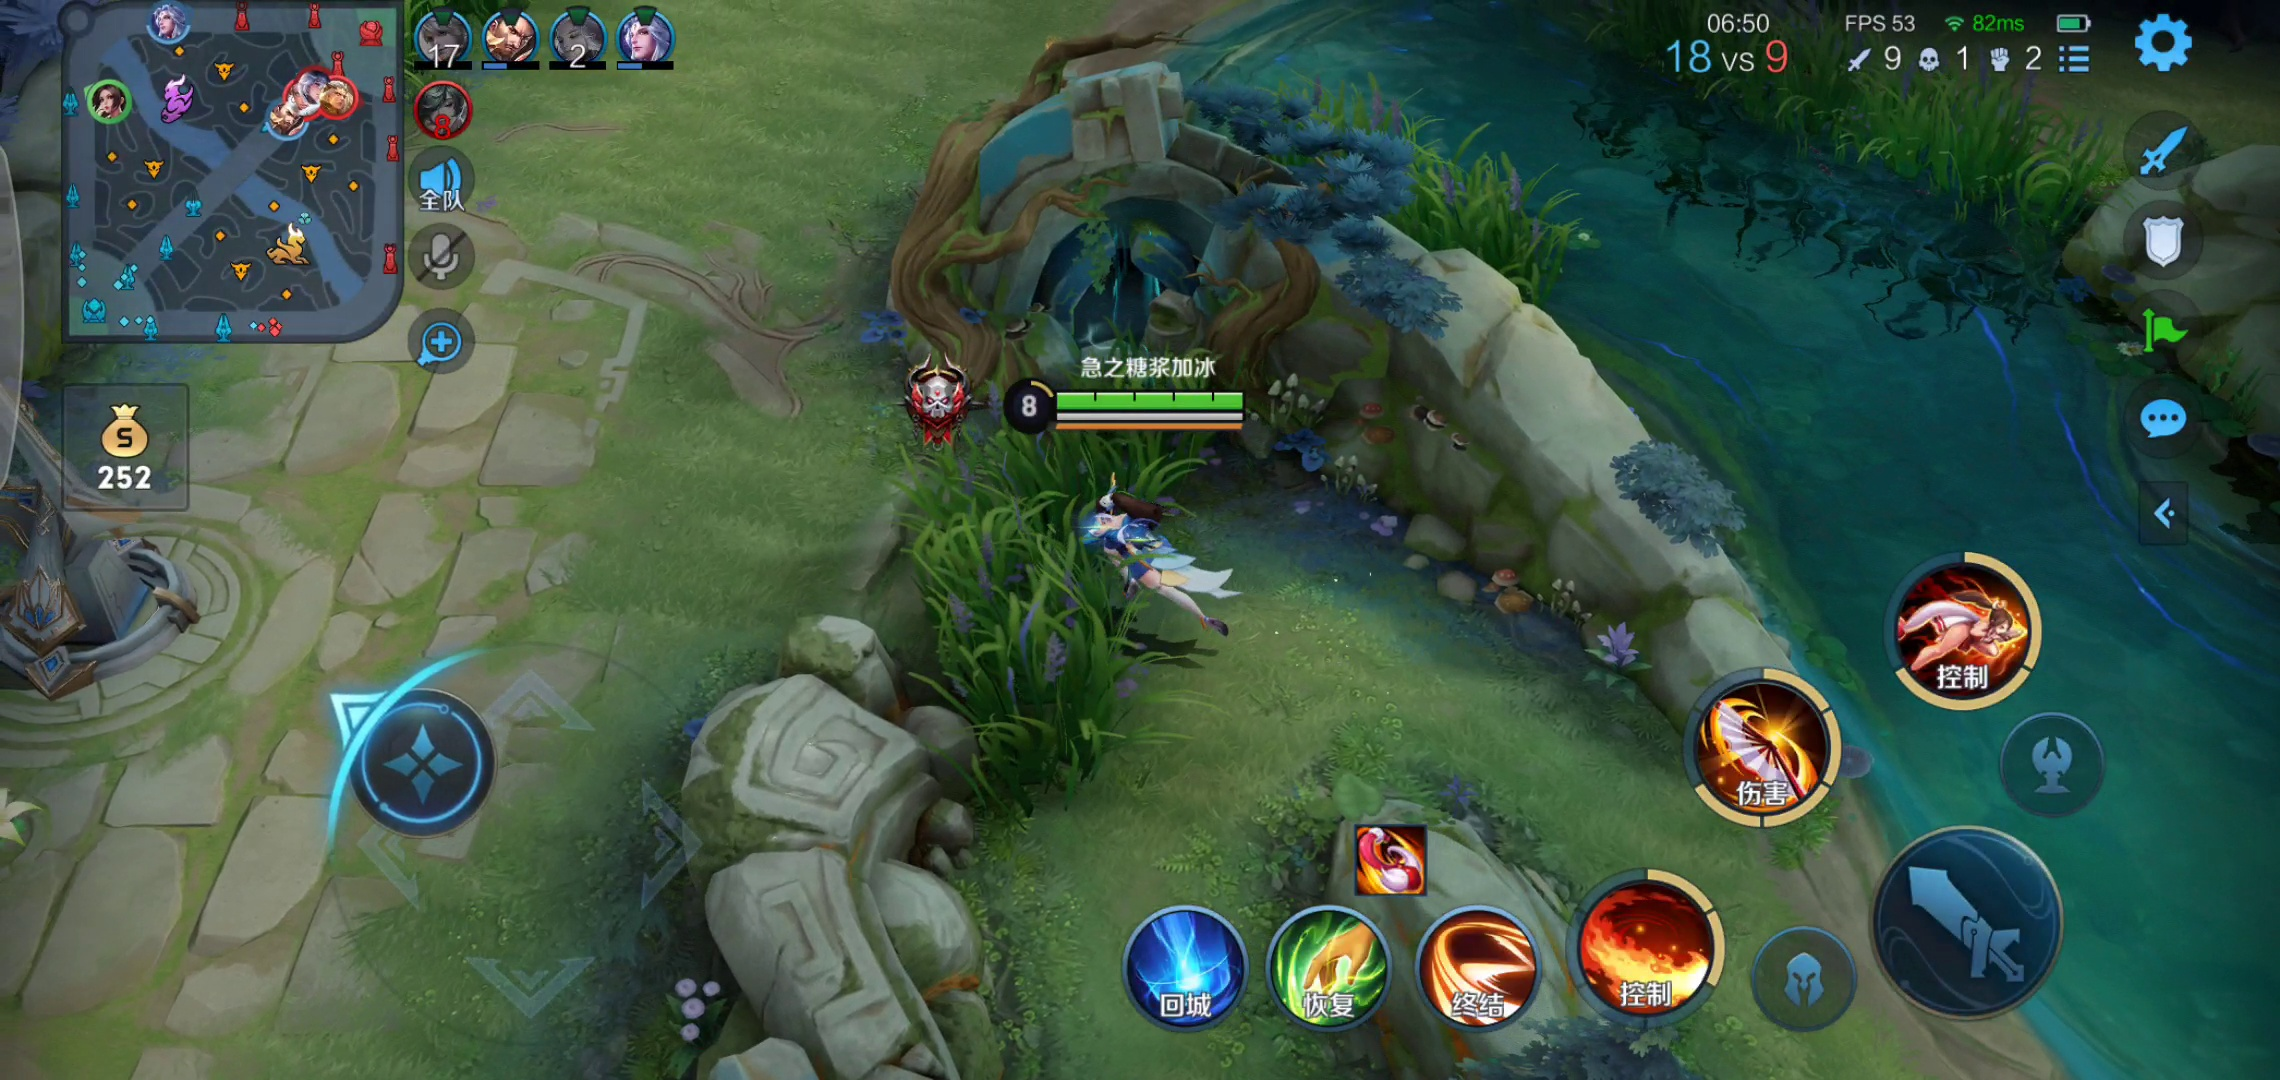grass: (875, 349, 1203, 798), (1637, 1, 2100, 294), (1240, 58, 1586, 315)
hero: (1086, 493, 1269, 653)
tower: (1, 381, 206, 690)
